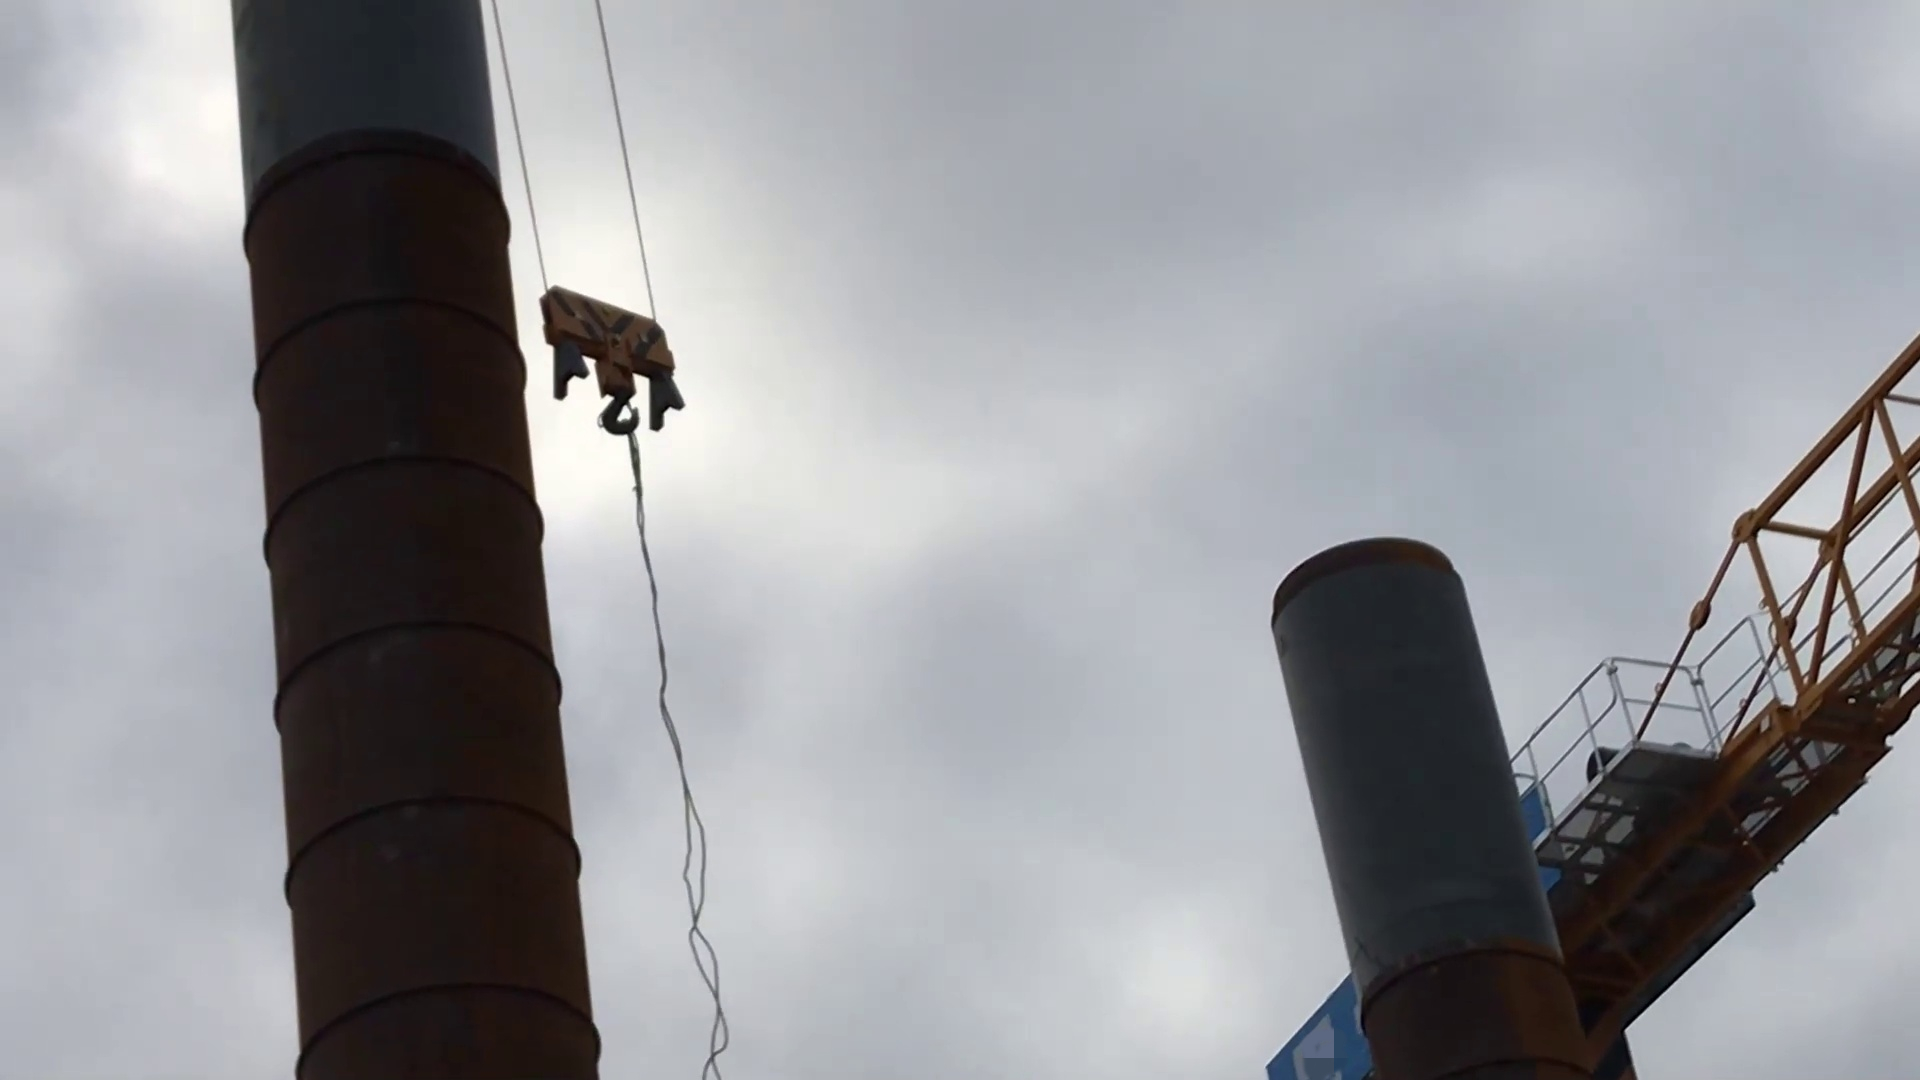hook: (534, 282, 698, 454)
